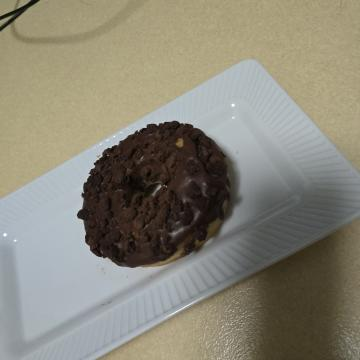doughnut: (104, 117, 287, 295)
